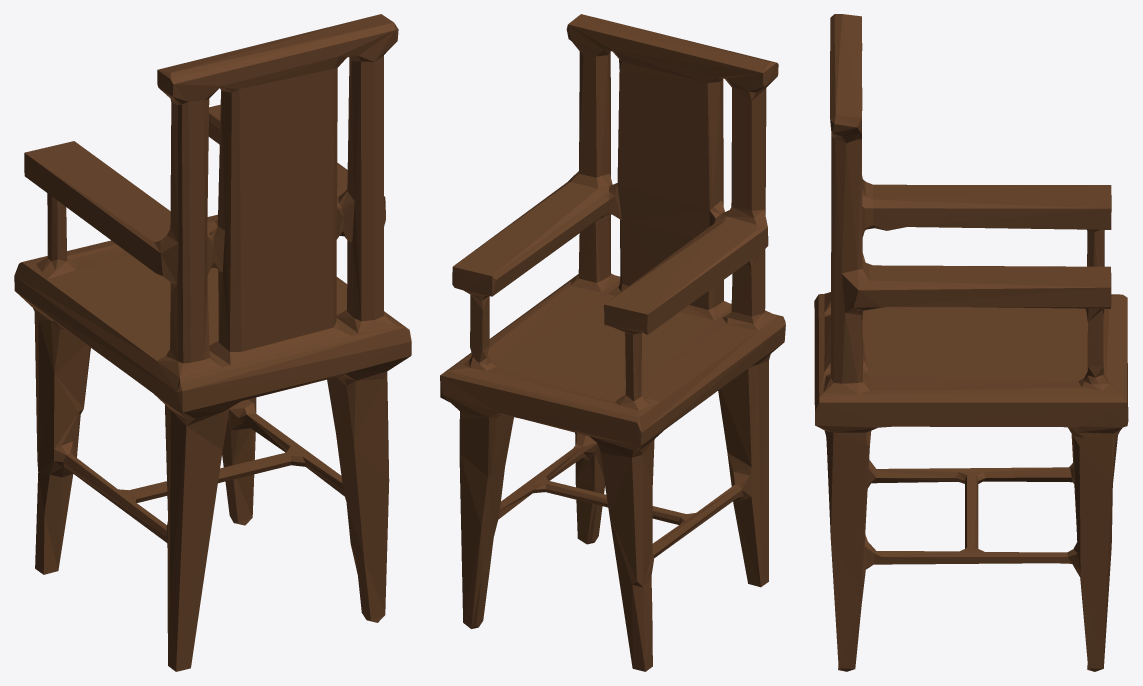
File: Chairs.glb
3 views of the same model, side by side, from view 1: azimuth 30°, elevation 25°; view 2: azimuth 150°, elevation 25°; view 3: azimuth 270°, elevation 25° (orthographic). The views are drawn at different scales.
Visible parts, largest first — view 1: Root; view 2: Root; view 3: Root.
Part boxes in pixels (x1=…): Root: x1=14, y1=14, x2=411, y2=671; Root: x1=440, y1=14, x2=785, y2=671; Root: x1=814, y1=14, x2=1128, y2=671.
Size of the model in its own units: 0.499 by 1.23 by 0.6202.
